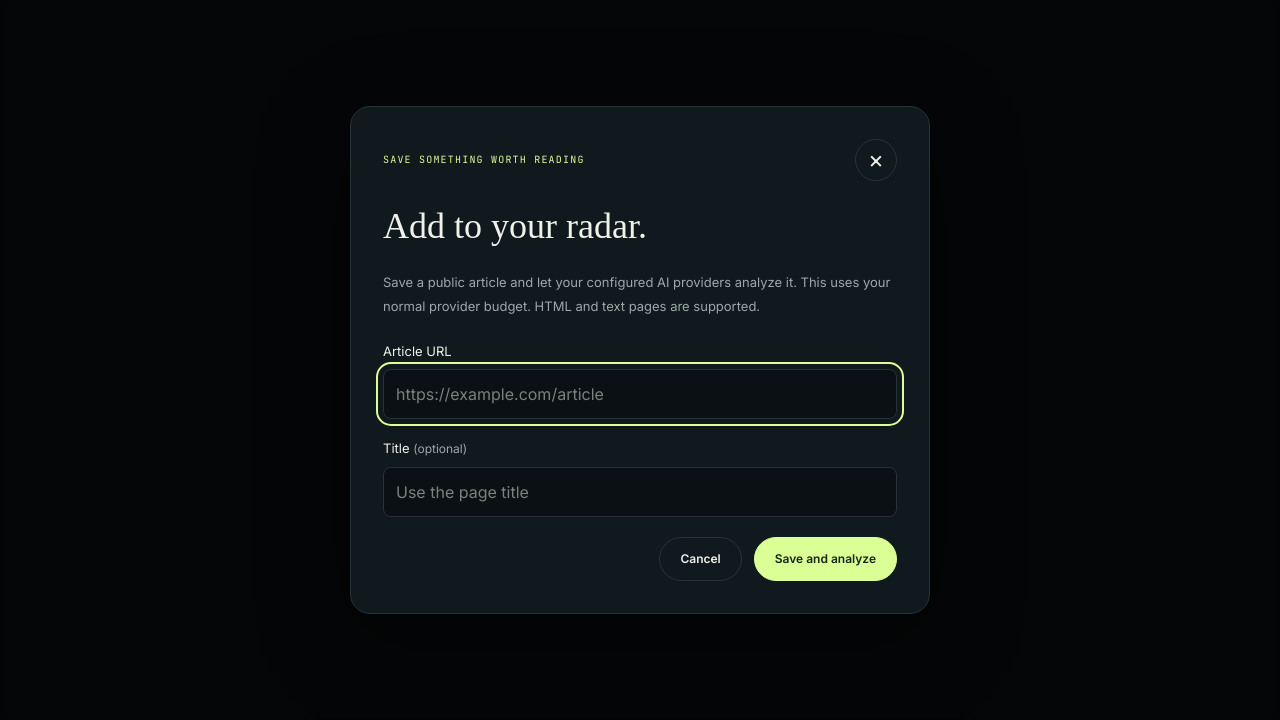
Test: submits once, reports a saved ID and invalidates collection caches
The image size is (1280, 720).
Step 1. Type "https://example.org/article" into the field labelled "Article URL" → coordinates (640, 394), box [383,369,897,419]
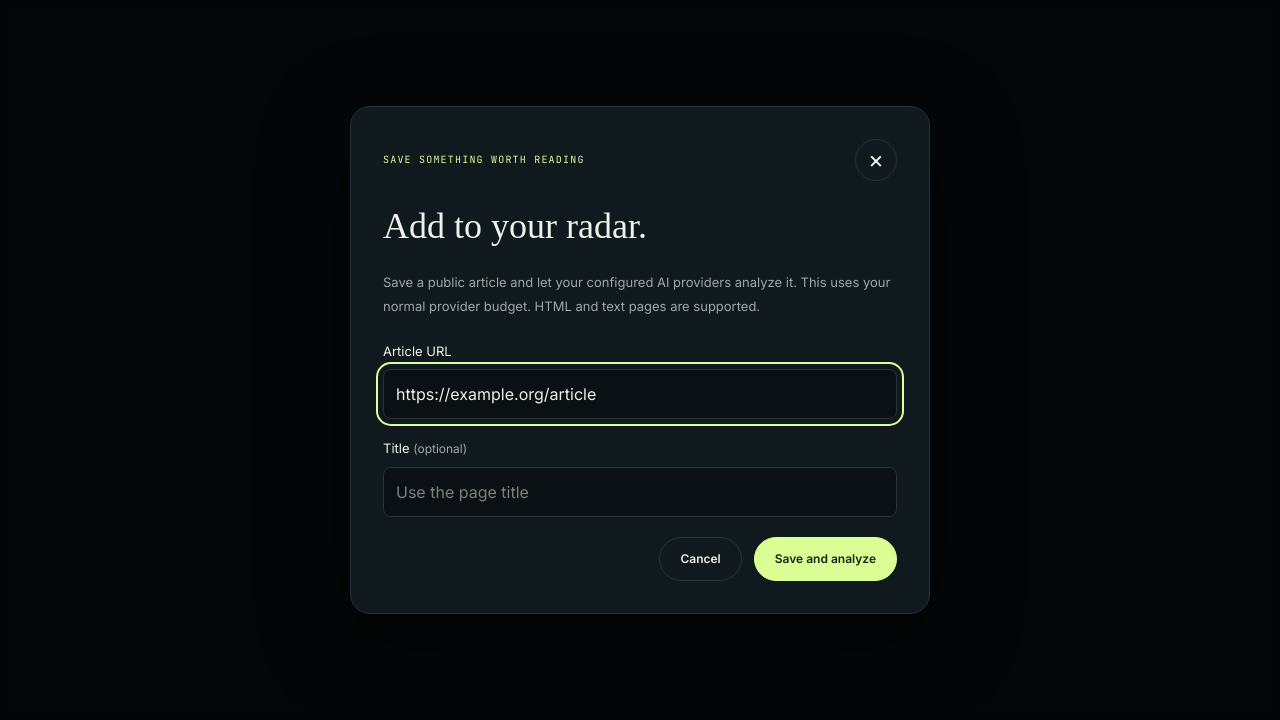
Step 2. Type "A useful article" into the field labelled "Title (optional)" → coordinates (640, 492), box [383,467,897,517]
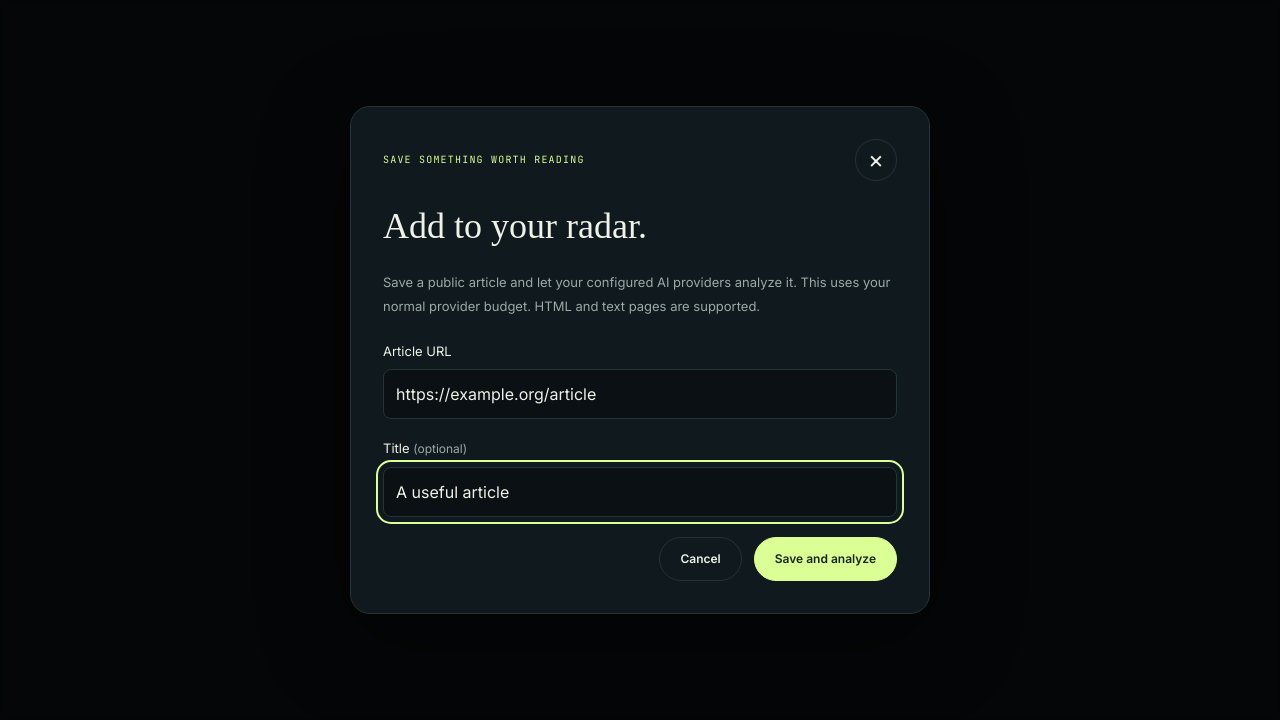
Step 3. Double-click the button "Save and analyze" → coordinates (825, 559), box [754,537,897,581]
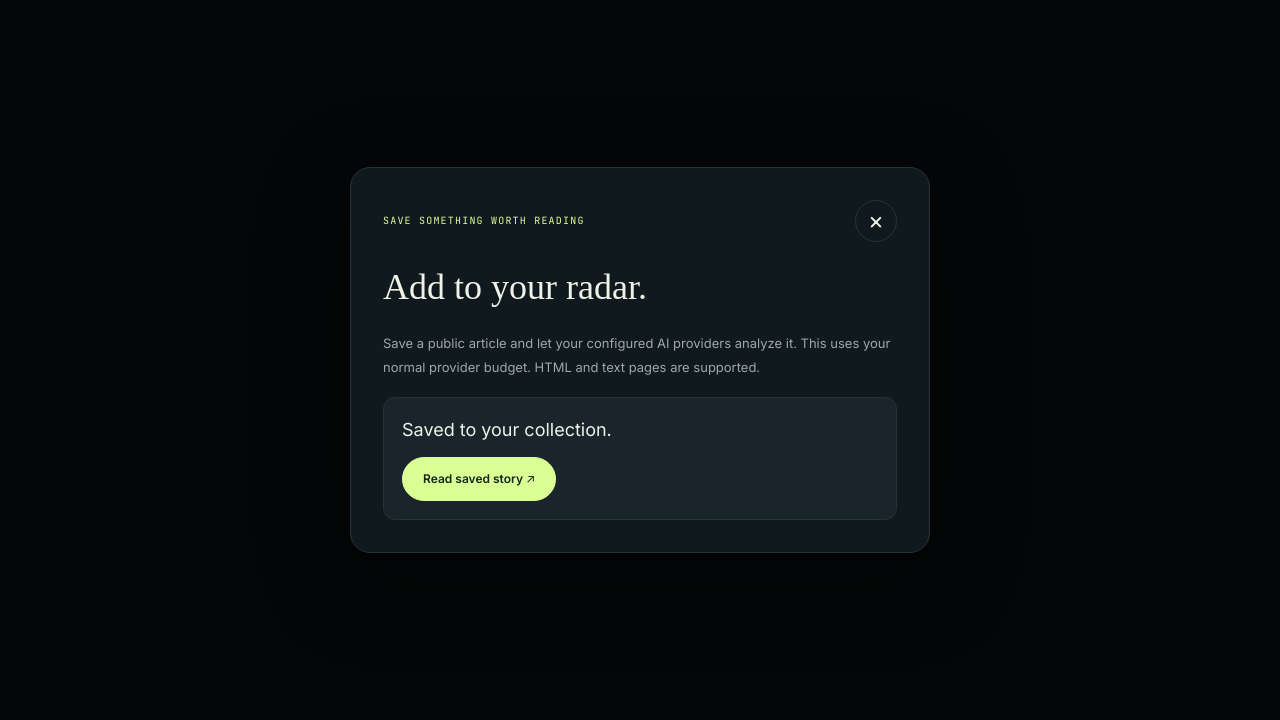
Expected: the heading "Saved to your collection." is shown, [402,419,612,440]
